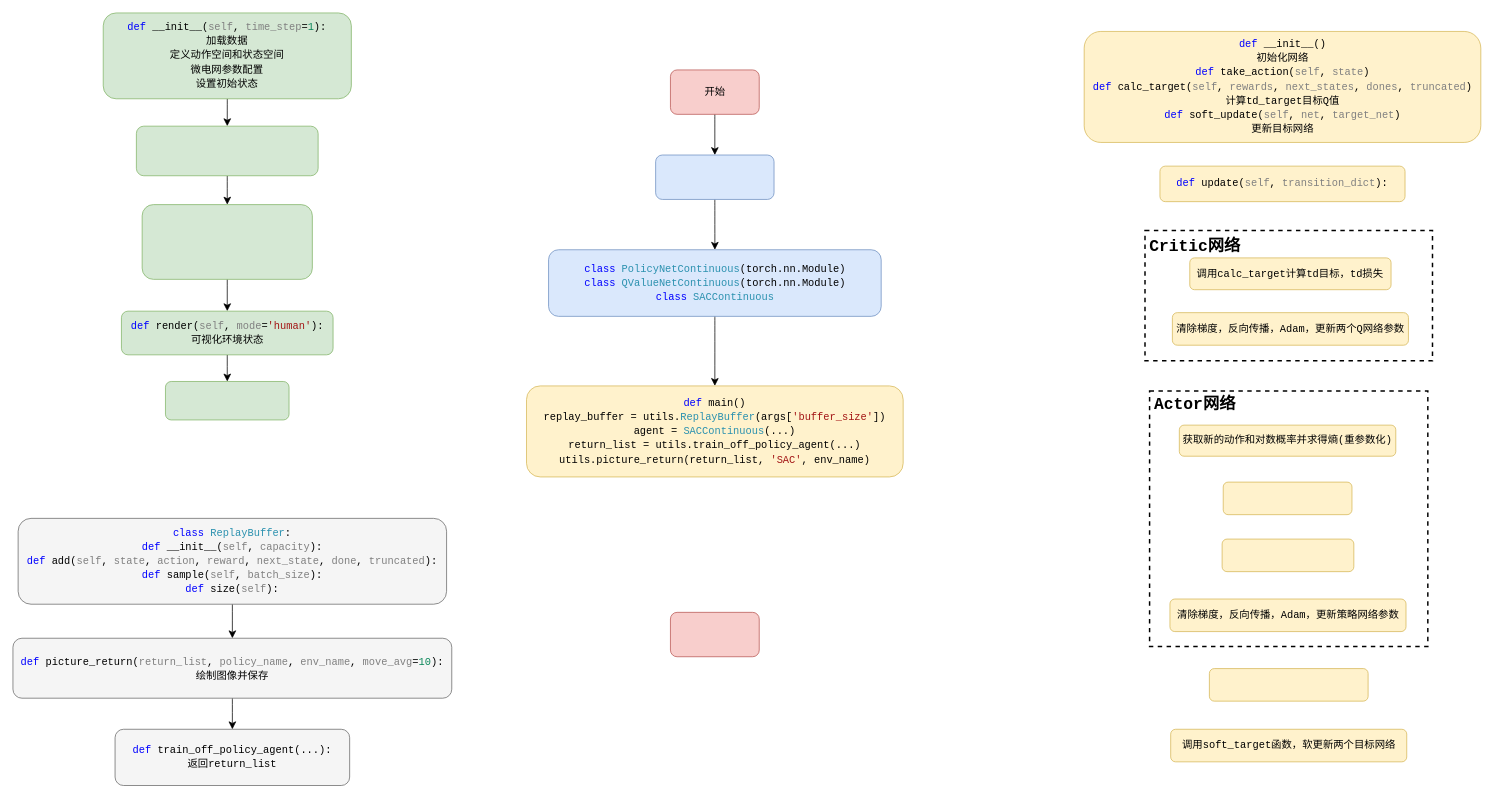
Some shapes in this 1494 by 798 pixel diagram are drawn without their labels. The shapes that lost their labels are listed below. From the top down, each one's centre as x and y in pixels, then its label:
point 227,150: def reset( self ): 重置环境，返回初始状态
point 714,176: def get_args() 初始化各个参数
point 226,241: def step( self , action ): 解析动作 获取当前状态 计算奖励值 更新状态
point 227,400: def close( self ): 关闭环境
point 1287,498: 用新的Q网络计算双Q值
point 1287,555: 取最小Q值加上熵后求平均
point 714,634: 结束
point 1288,684: 自动调整熵正则化项系数alpha
